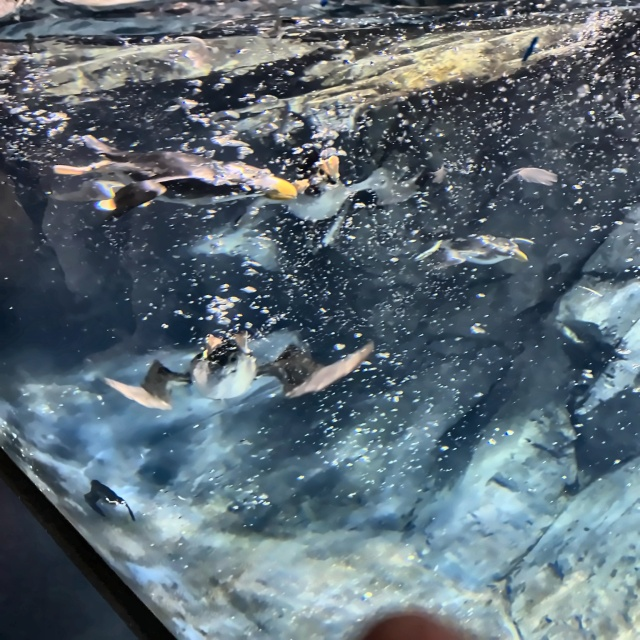puffin: (100, 329, 374, 412), (54, 134, 298, 215), (242, 152, 444, 221), (412, 230, 533, 268), (84, 480, 135, 522)
